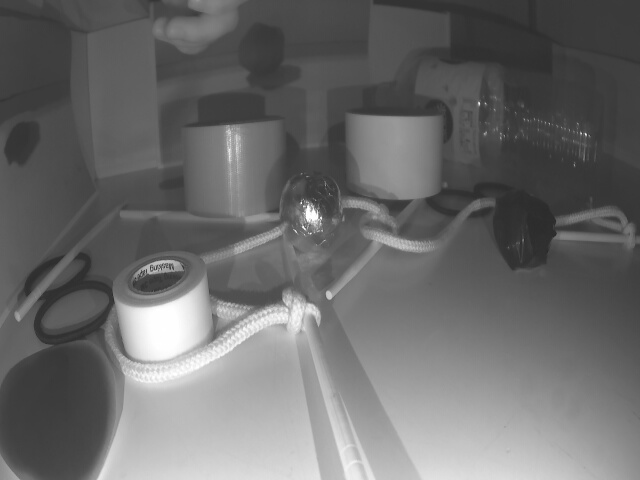Dead: (498, 189, 555, 268)
Live: (276, 171, 343, 253)
